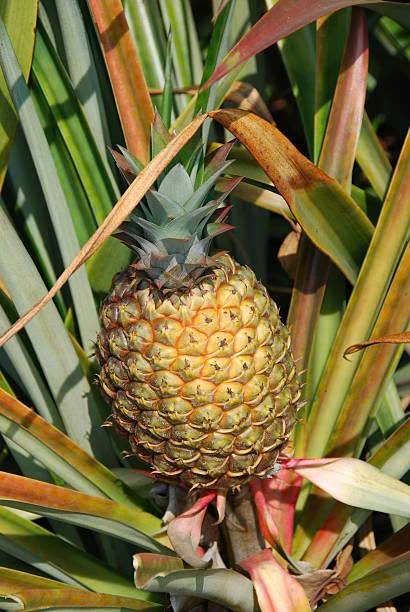pineapple: (77, 129, 310, 494)
